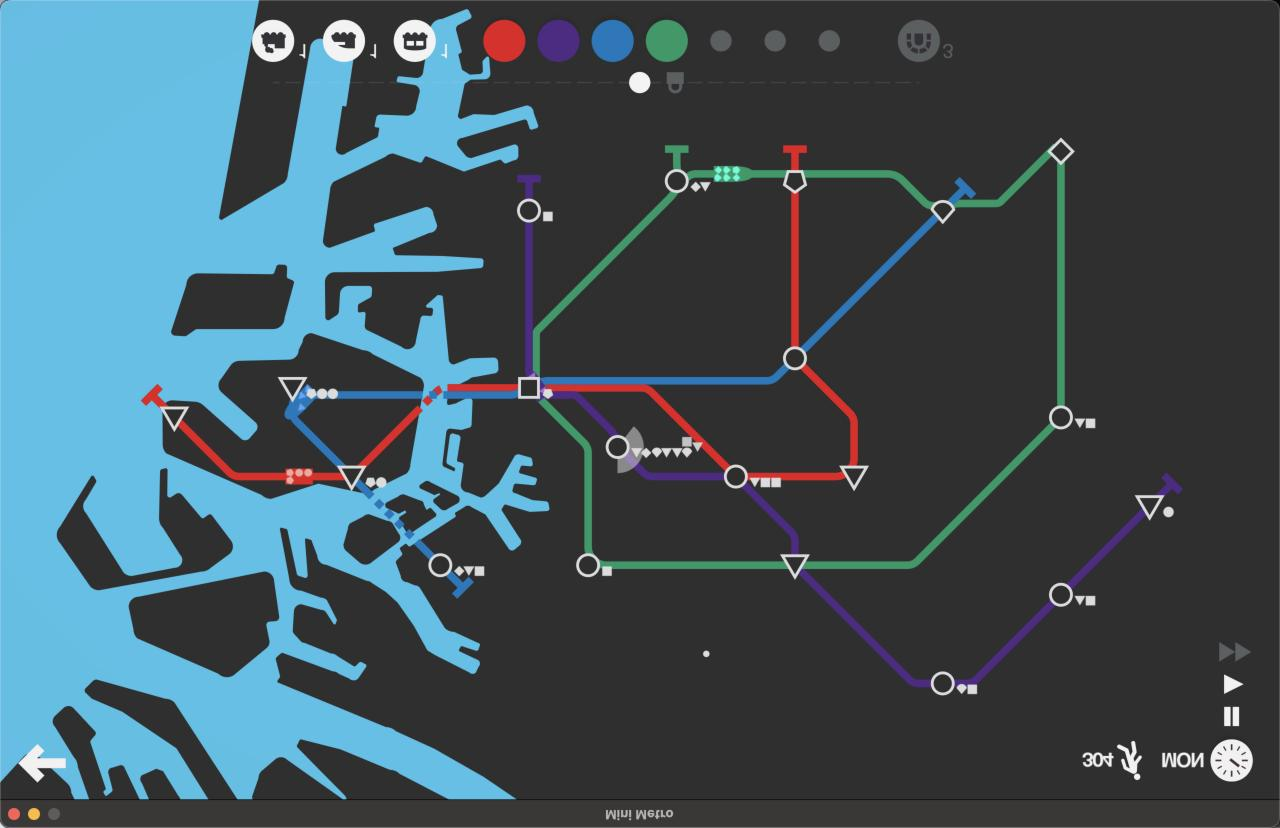BLUE LINE: (801, 216, 939, 351), (288, 389, 516, 468), (355, 481, 433, 555), (543, 366, 792, 387), (949, 176, 976, 205), (449, 571, 472, 599)
DARK GREEN LINE: (803, 423, 1055, 569), (534, 194, 676, 376), (539, 396, 594, 554), (805, 165, 937, 207), (958, 150, 1053, 207), (1057, 163, 1065, 406), (600, 559, 787, 568), (690, 169, 791, 180), (665, 143, 691, 169)
PURPLE LINE: (801, 568, 931, 687), (957, 603, 1057, 685), (1072, 510, 1147, 589), (741, 480, 799, 551), (555, 394, 617, 439), (635, 458, 721, 480), (524, 226, 534, 374), (1162, 473, 1183, 496), (519, 175, 539, 197)
RED LINE: (545, 385, 729, 469), (360, 383, 515, 467), (179, 418, 347, 482), (802, 365, 858, 464), (792, 192, 803, 346), (749, 472, 847, 479), (785, 145, 809, 171), (139, 385, 167, 407)
